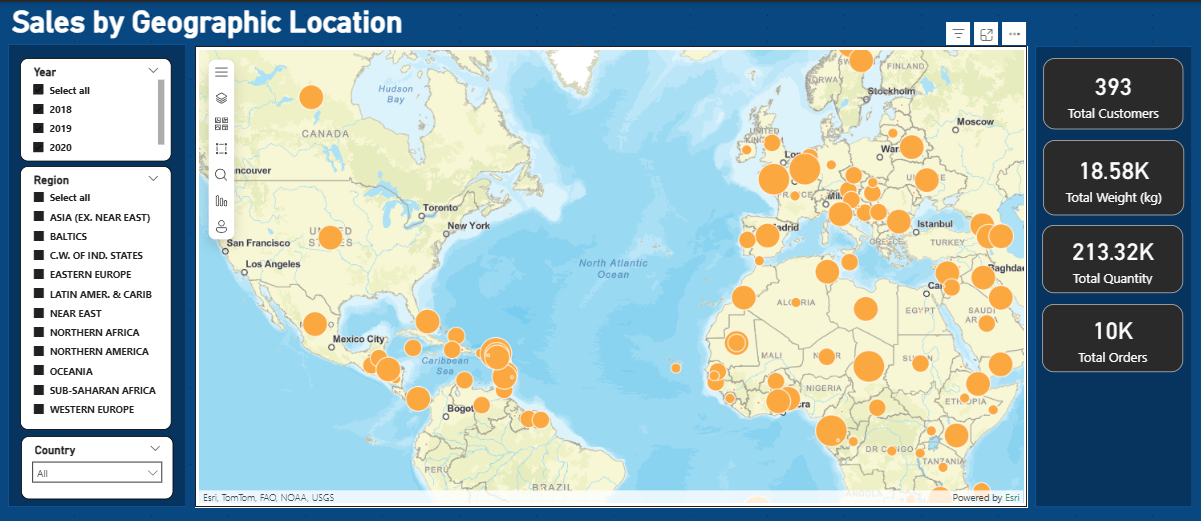

The page's visual inventory and layout, read from the dashboard file:
{"tool":"powerbi","page":{"name":"SalesByGeography","canvas":[1500,650],"ordinal":0},"visuals":[{"type":"shape","box":[1293.9,54.3,196.2,575],"z":0},{"type":"card","fields":{"Values":["gold_fact_sales.Total Quantity"]},"box":[1303.3,278.6,176.3,84.5],"z":1000},{"type":"card","fields":{"Values":["gold_fact_sales.Total Weight (kg)"]},"box":[1304.3,172.2,176.3,93.9],"z":2000},{"type":"card","fields":{"Values":["gold_fact_sales.Total Customers"]},"box":[1304.3,69.9,175.3,88.7],"z":3000},{"type":"shape","box":[13.6,52.2,222.3,577],"z":4000},{"type":"textbox","title":"Sales by Geographic Location","box":[13.6,2.1,717.9,56.3],"z":5000},{"type":"esriVisual","fields":{"Location":["gold_dim_country.Country_ISO"],"Size":["gold_fact_sales.Total Weight (kg)"]},"box":[246.3,54.3,1038.3,575],"z":6000},{"type":"slicer","fields":{"Values":["gold_dim_country.CountryName"]},"box":[30,541.2,190,78.8],"z":7000},{"type":"slicer","fields":{"Values":["gold_dim_country.Region"]},"box":[28.8,205,188.8,328.8],"z":8000},{"type":"slicer","fields":{"Values":["gold_dim_date.Year"]},"box":[28.8,70,188.8,128.8],"z":9000},{"type":"card","fields":{"Values":["gold_fact_sales.Total Orders"]},"box":[1302.3,376.7,176.3,84.5],"z":10000}]}

Visuals, with their boxes in screenshot pixels (x1, y1, x2, y2), scaled from the page's 1500x650 canvas onto the 1201x521 screenshot:
shape: [x1=1036, y1=44, x2=1193, y2=504]
card - gold_fact_sales.Total Quantity: [x1=1044, y1=223, x2=1185, y2=291]
card - gold_fact_sales.Total Weight (kg): [x1=1044, y1=138, x2=1185, y2=213]
card - gold_fact_sales.Total Customers: [x1=1044, y1=56, x2=1185, y2=127]
shape: [x1=11, y1=42, x2=189, y2=504]
"Sales by Geographic Location" textbox: [x1=11, y1=2, x2=586, y2=47]
esriVisual - gold_dim_country.Country_ISO x gold_fact_sales.Total Weight (kg): [x1=197, y1=44, x2=1029, y2=504]
slicer - gold_dim_country.CountryName: [x1=24, y1=434, x2=176, y2=497]
slicer - gold_dim_country.Region: [x1=23, y1=164, x2=174, y2=428]
slicer - gold_dim_date.Year: [x1=23, y1=56, x2=174, y2=159]
card - gold_fact_sales.Total Orders: [x1=1043, y1=302, x2=1184, y2=370]
